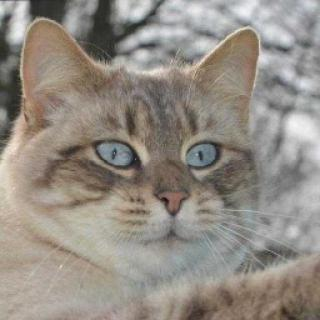cat: (19, 17, 268, 274)
nose: (150, 180, 196, 218)
